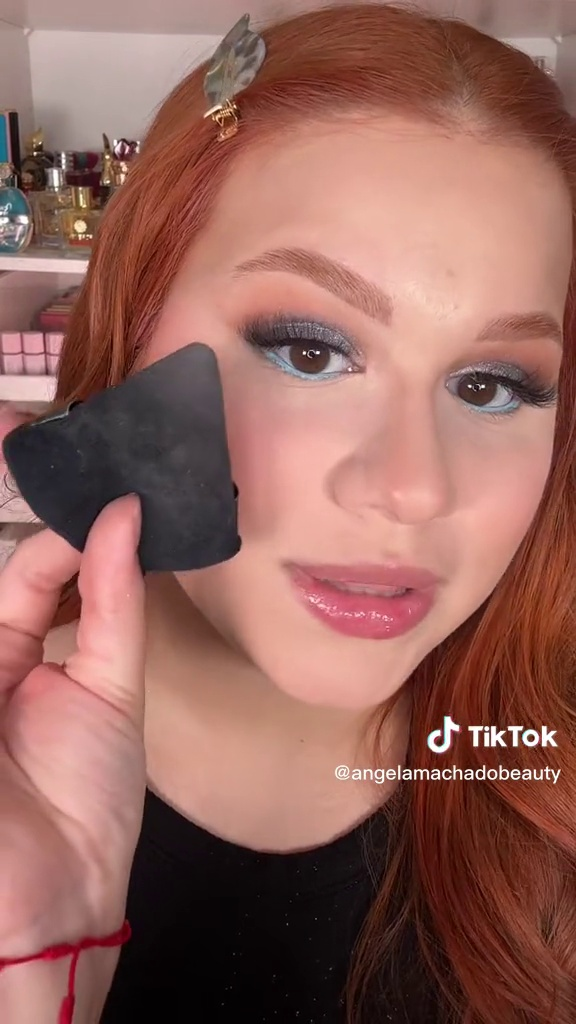train' :'yolo_data/train/images',: (1, 335, 248, 579)
